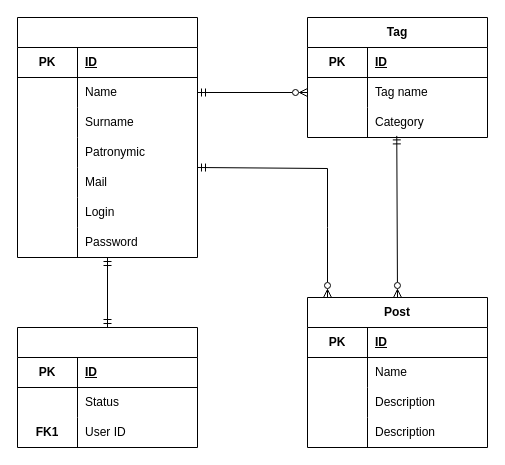
Image size: 505x465. Some labels were removed from this diagram. Here are the shapes that lost their labels. From the top down, the box of each, then its label:
(16, 16, 198, 258): User
(16, 326, 198, 448): User Status
